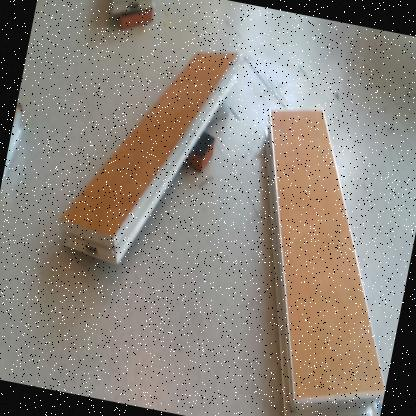Stairs: (60, 48, 240, 269), (263, 105, 387, 416), (3, 103, 26, 179), (112, 1, 155, 17)
